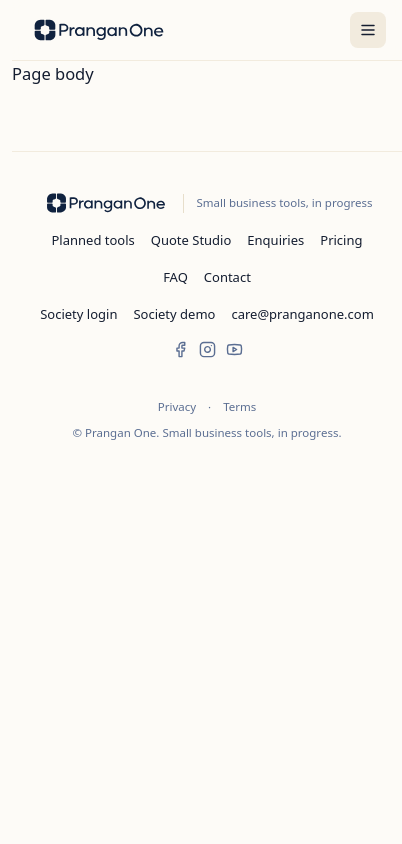
Test: PublicLayout mobile menu accessibility › announces expansion state and closes with Escape when demo navigation is enabled
Click the button named "Open menu". click: (368, 30)
box: [350,12,386,48]
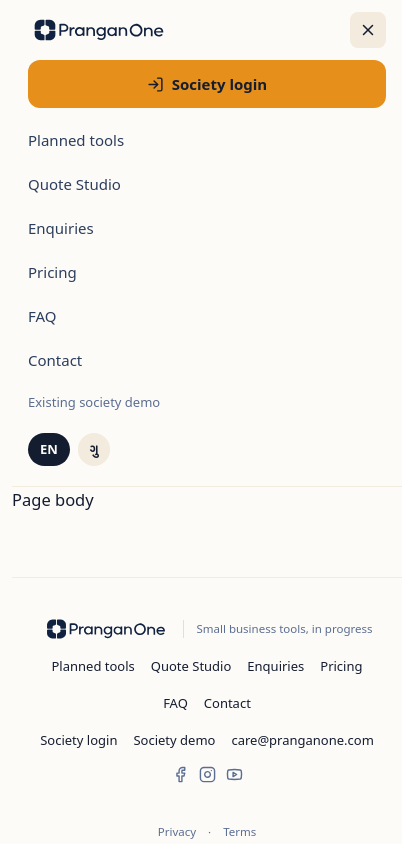
Expected: the button named "Close menu" is expanded, [350,12,386,48]
Expected: the 1st link "Planned tools" is shown, [28,130,124,150]
Press Escape
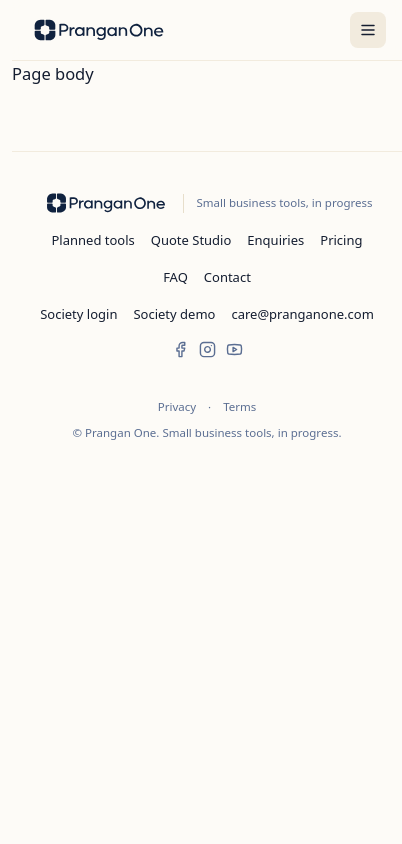
Expected: the button named "Open menu" is collapsed, [350,12,386,48]
